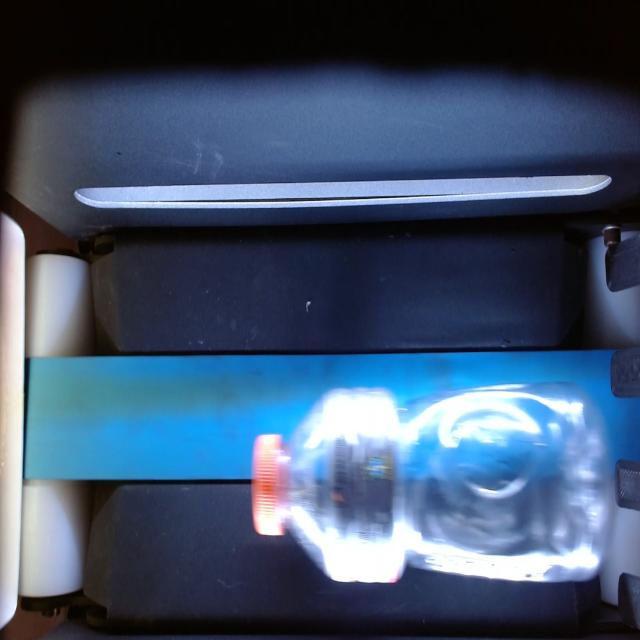bottom: (564, 376, 614, 596)
cap: (240, 424, 296, 532)
